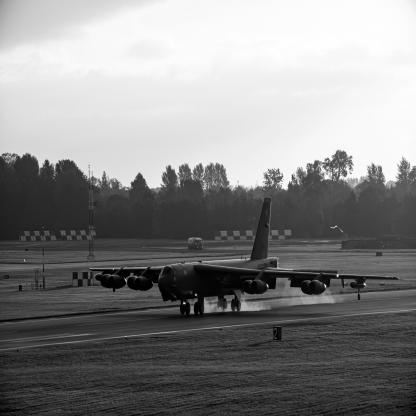B52: (89, 198, 401, 317)
